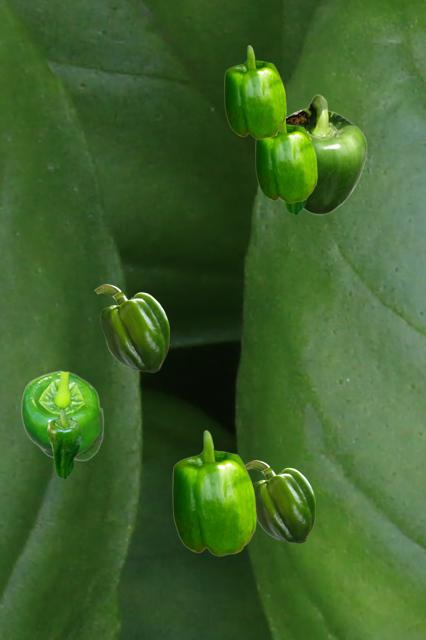bell_pepper: (279, 94, 366, 214), (172, 430, 255, 555), (20, 370, 103, 460), (94, 284, 168, 371), (224, 45, 285, 138), (245, 460, 314, 542), (255, 119, 316, 202), (47, 410, 81, 478), (283, 200, 306, 214)
